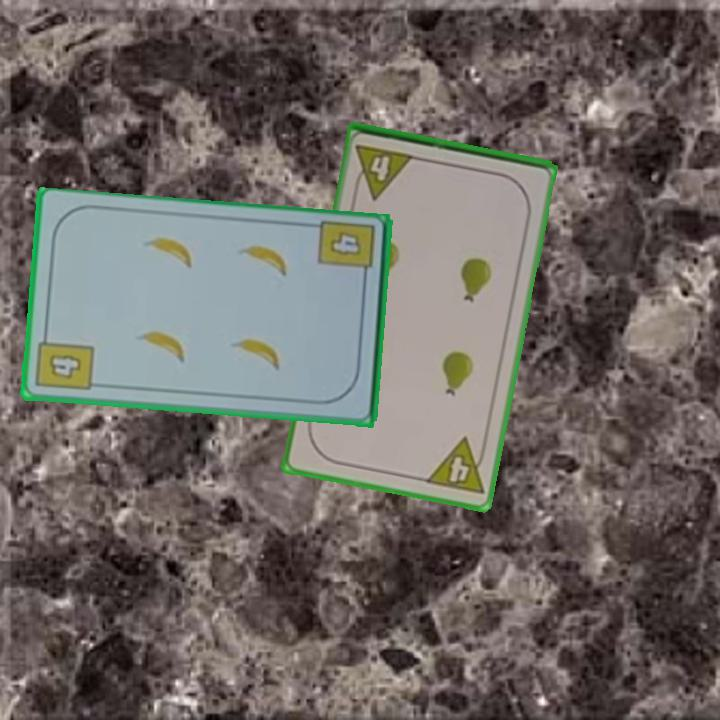4b: (32, 328, 97, 394), (315, 218, 378, 286)
4p: (422, 434, 491, 498), (350, 141, 417, 202)
